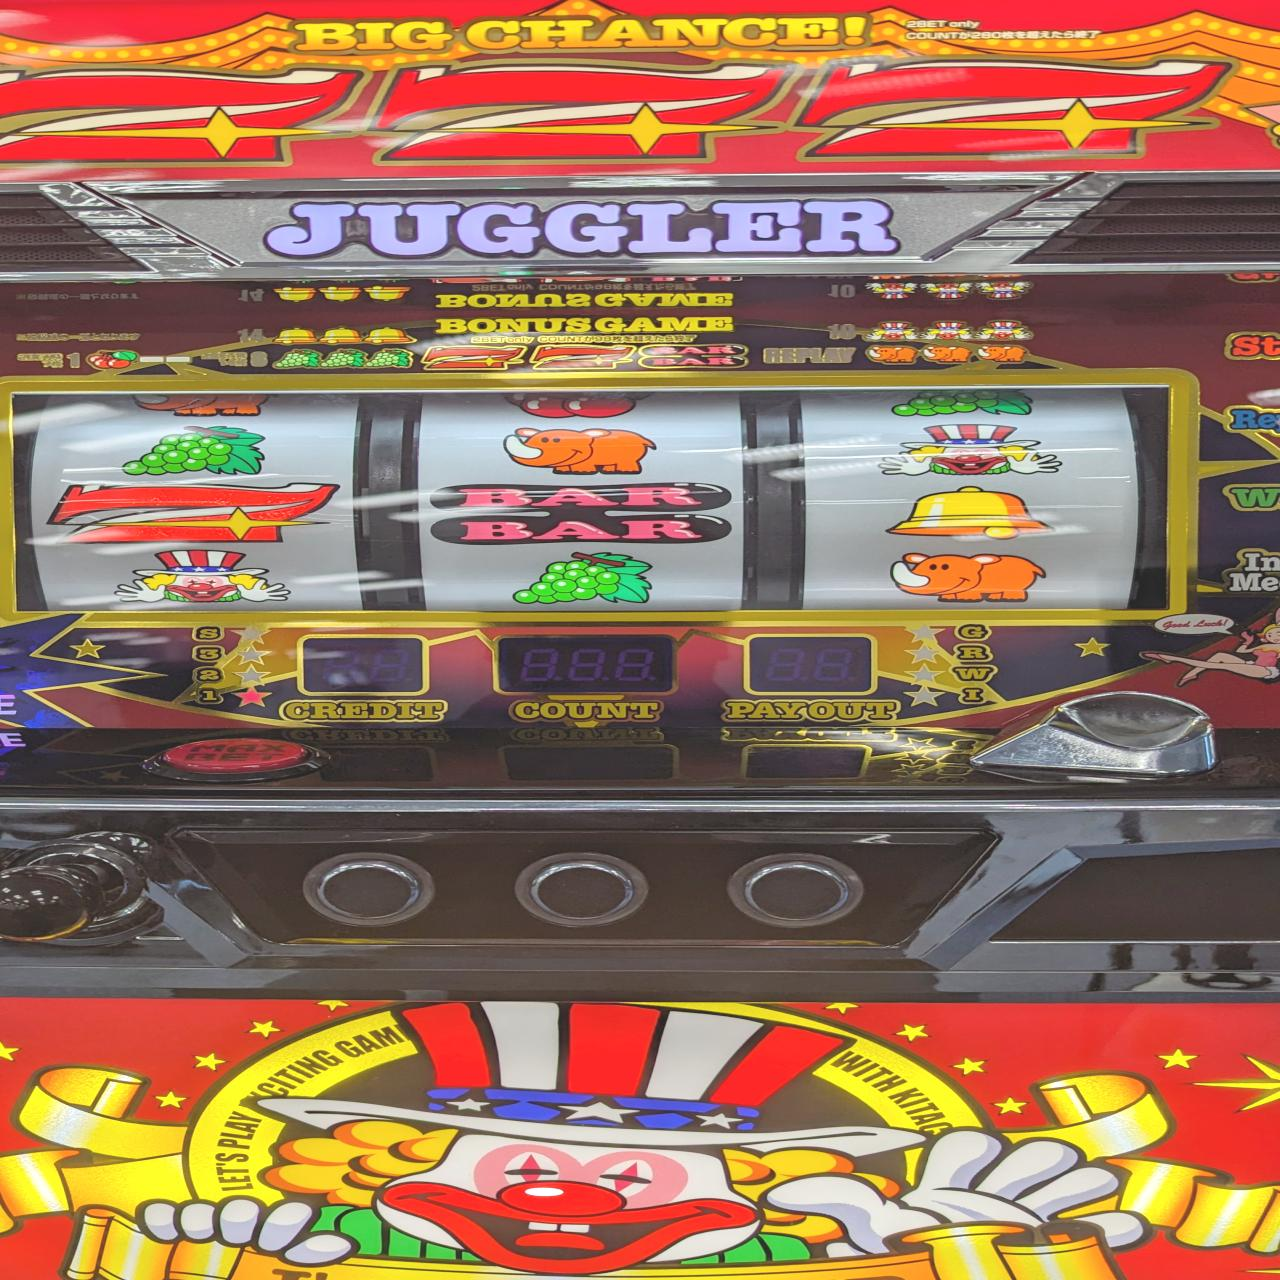7: (50, 483, 346, 543)
8: (884, 550, 1048, 601), (498, 427, 665, 476)
Display: (1, 386, 1180, 617)
bar: (425, 482, 734, 546)
bell: (885, 485, 1051, 540)
clown: (876, 424, 1063, 478), (113, 551, 297, 605)
grape: (509, 550, 658, 608), (120, 425, 272, 477)
